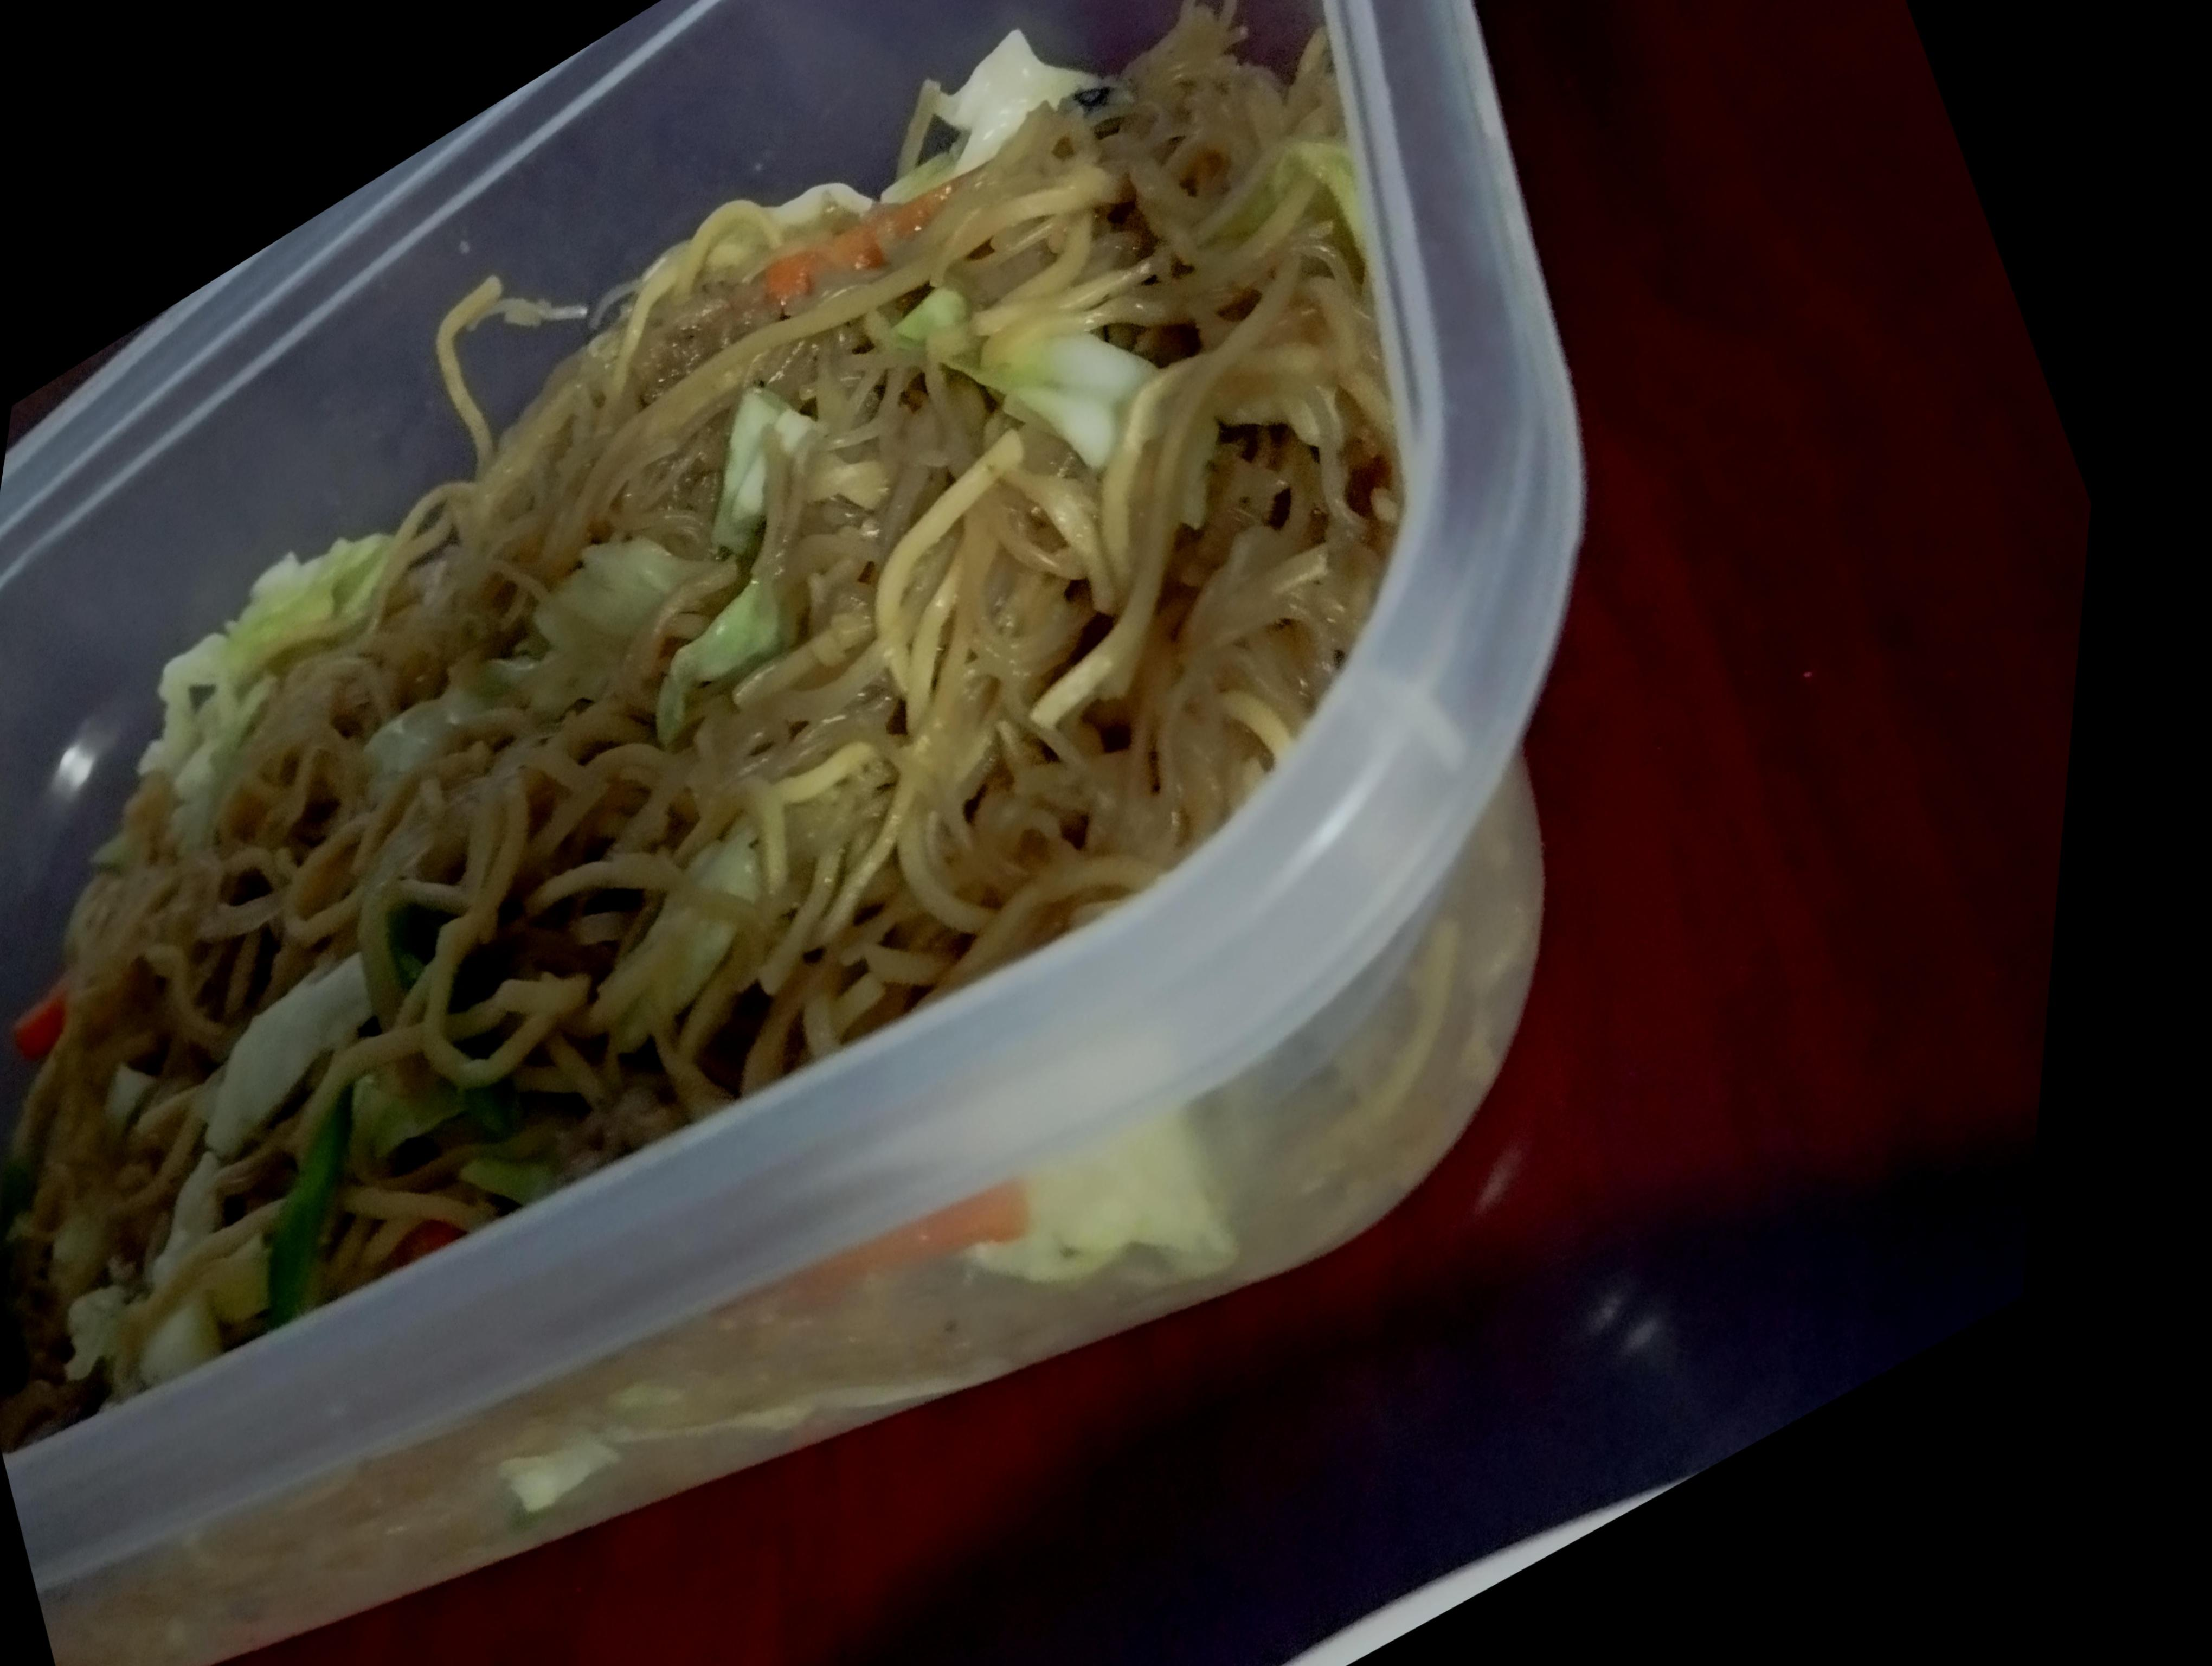pancit bihon: (3, 40, 1413, 1442)
